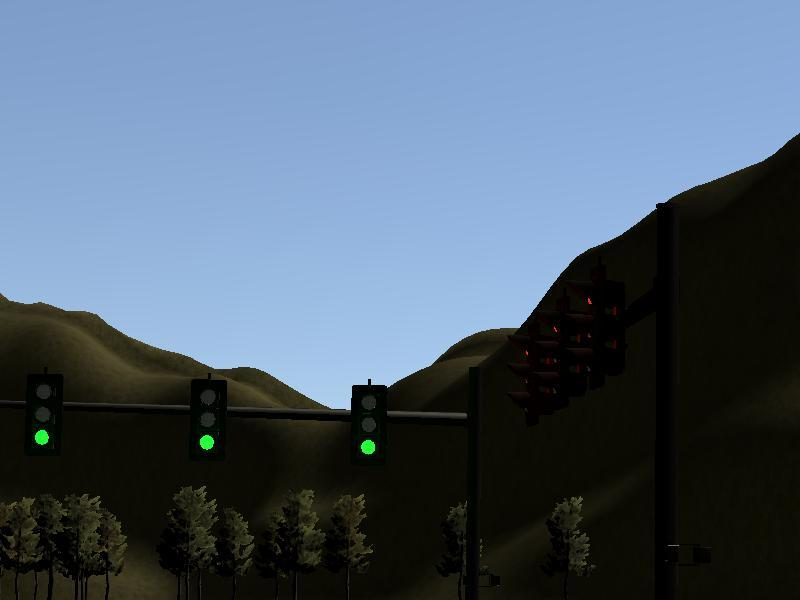Green: (23, 371, 62, 457), (349, 383, 388, 469), (188, 378, 227, 464)
